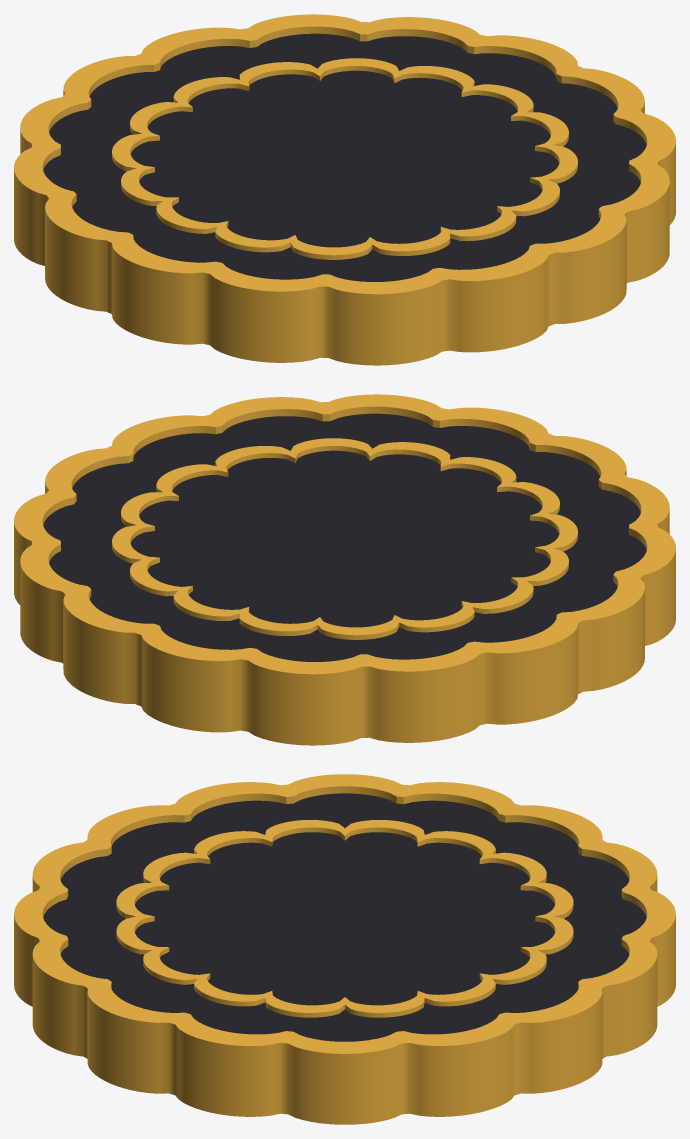
The model's file is KikuGuard.fbx.
The picture shows the model from 3 angles, top to bottom: view 1: azimuth 30°, elevation 25°; view 2: azimuth 150°, elevation 25°; view 3: azimuth 270°, elevation 25°; orthographic projection.
Visible parts, largest first — view 1: KikuCore, KikuRim, KikuInner; view 2: KikuCore, KikuRim, KikuInner; view 3: KikuCore, KikuRim, KikuInner.
Boxes of the visible parts, x1,y1,x2,y2 form: KikuCore: (43,33,646,281); KikuRim: (14,14,675,365); KikuInner: (112,58,577,259); KikuCore: (43,413,646,661); KikuRim: (14,394,675,745); KikuInner: (112,438,577,639); KikuCore: (43,793,646,1041); KikuRim: (14,774,675,1124); KikuInner: (116,820,573,1017).
Size of the model in its own units: 0.508 by 0.06 by 0.508.
